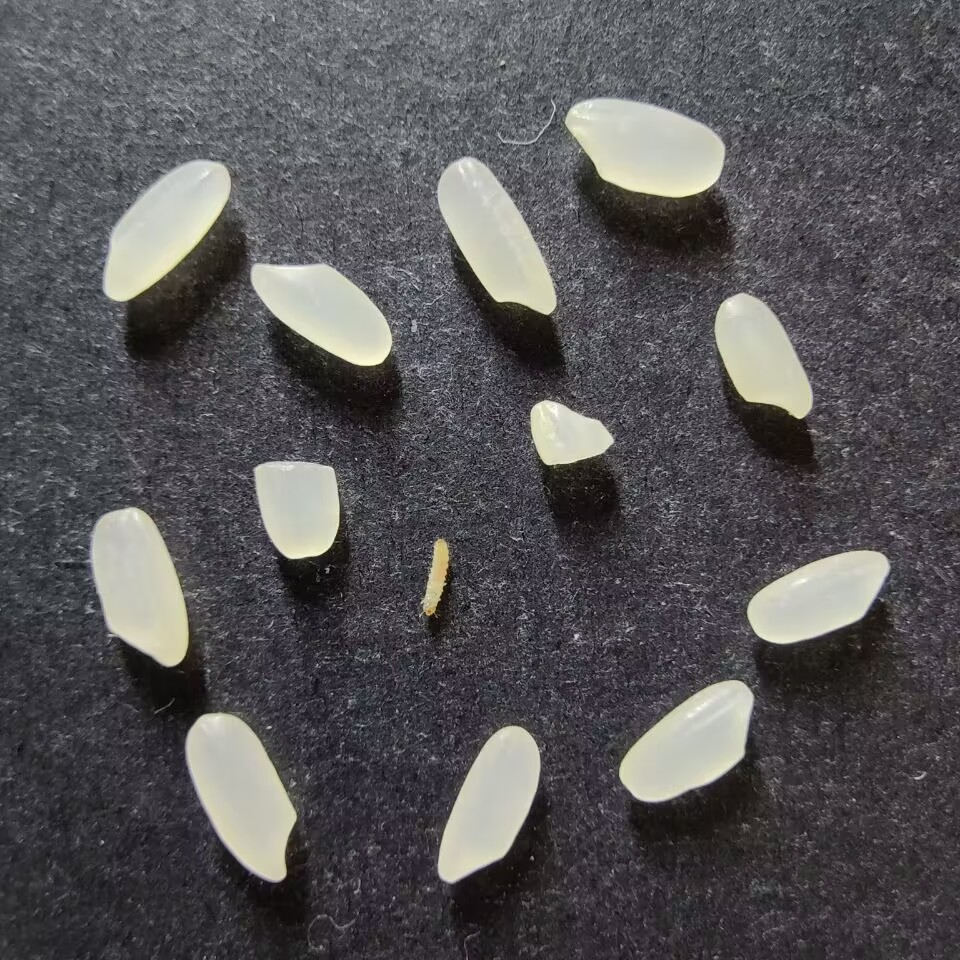broken: (253, 459, 338, 559), (529, 400, 614, 465)
others: (415, 537, 450, 620)
rice: (436, 156, 557, 315), (185, 712, 297, 882), (102, 158, 230, 302), (618, 679, 753, 803), (437, 724, 540, 883), (564, 97, 725, 197), (90, 506, 188, 667), (250, 262, 393, 366), (746, 550, 890, 643), (714, 293, 813, 419)
